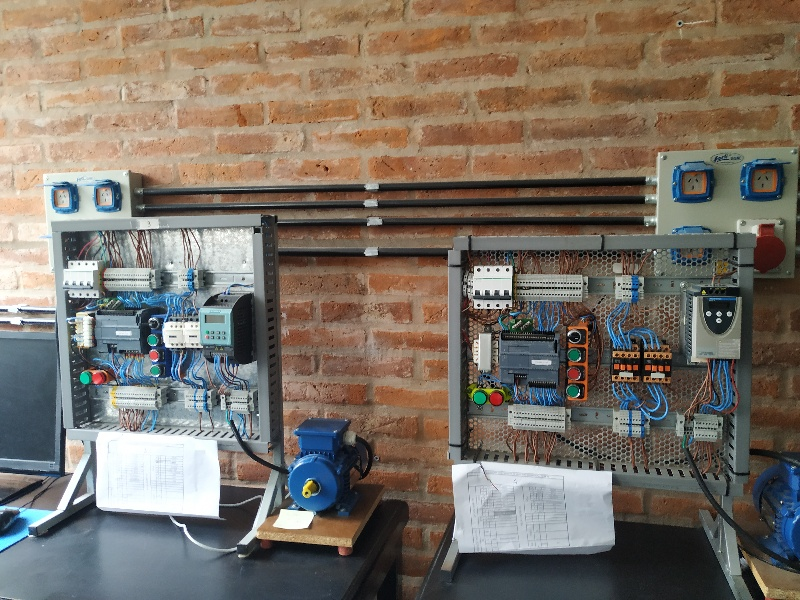Tablero 3: (54, 226, 271, 448)
Tablero 4: (458, 244, 746, 491)
